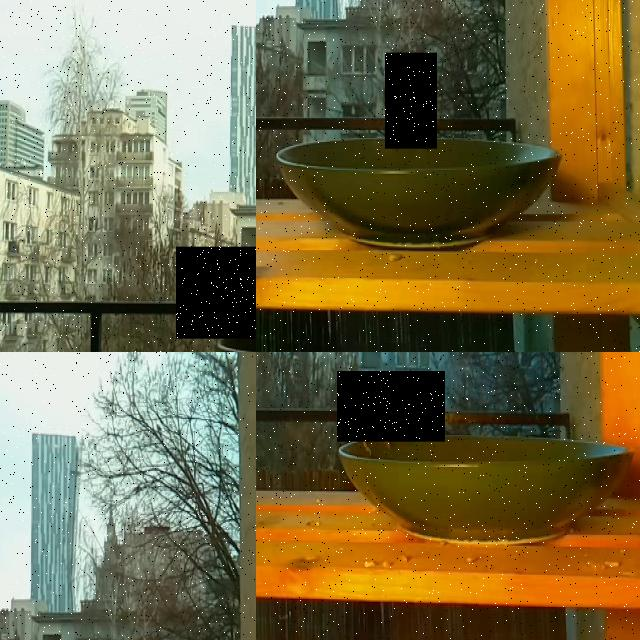Bogatka: (385, 53, 437, 148)
Modraszka: (337, 371, 445, 442)
Wrobel: (176, 246, 256, 338)
